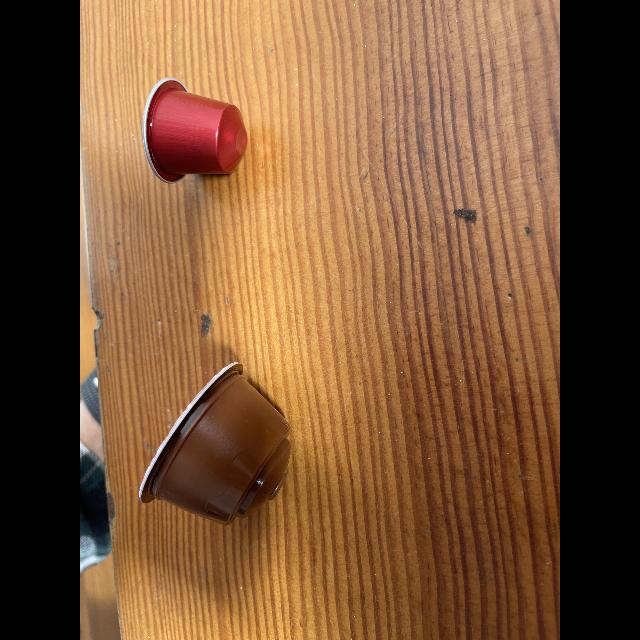intact_capsule: (129, 354, 315, 536), (138, 74, 250, 198)
